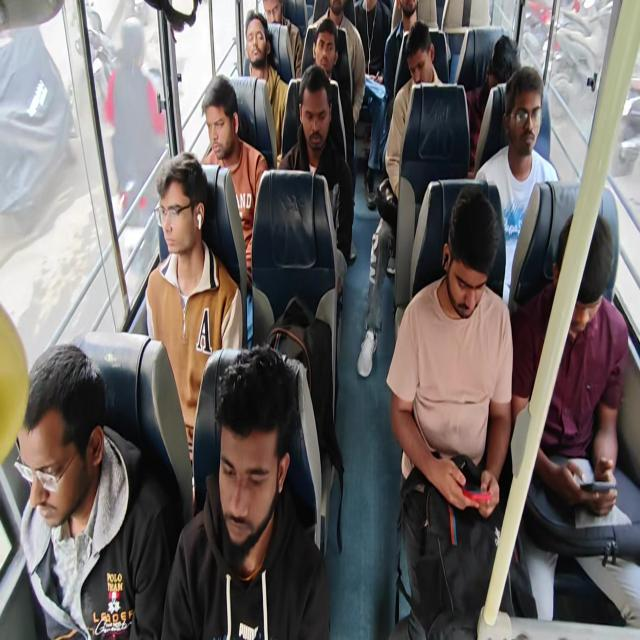person: (3, 1, 637, 638), (386, 185, 523, 638), (510, 210, 639, 626), (160, 343, 331, 639), (14, 342, 175, 638), (144, 151, 243, 484), (356, 21, 446, 377), (474, 65, 559, 304), (278, 65, 355, 295), (200, 74, 268, 285), (104, 16, 166, 212), (364, 0, 418, 205), (344, 0, 392, 207), (301, 18, 356, 198), (465, 34, 521, 174), (313, 0, 366, 127), (243, 9, 289, 155), (383, 0, 418, 116), (343, 0, 391, 82), (262, 0, 303, 78)
